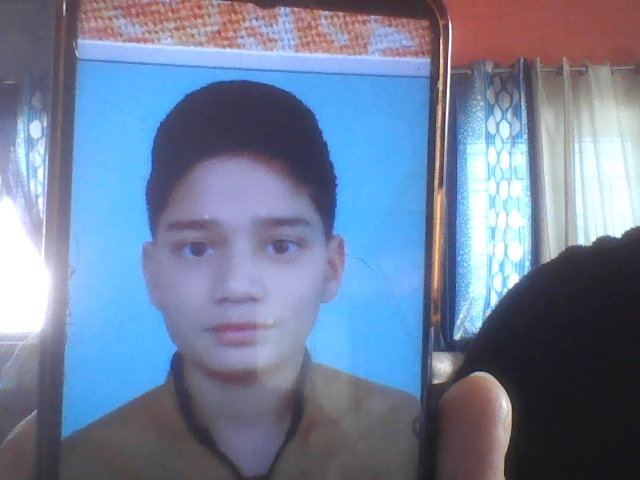fake: (129, 82, 358, 406)
